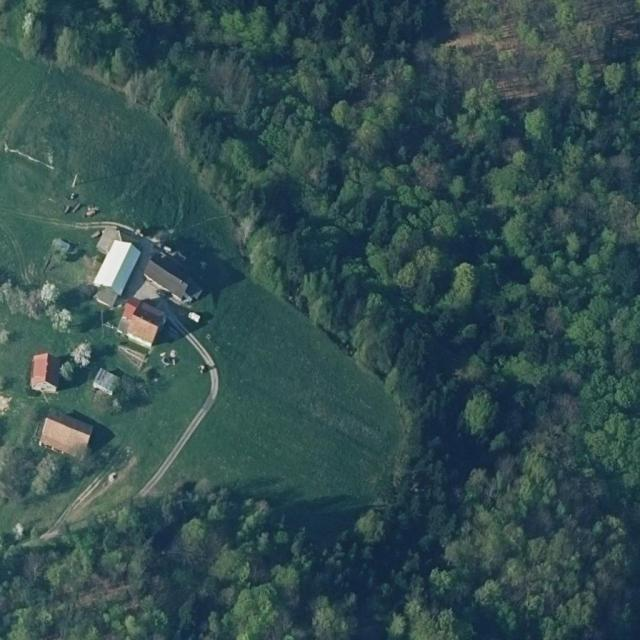agricultural_land: (180, 258, 417, 506)
building: (84, 234, 143, 310), (139, 248, 209, 311), (36, 408, 96, 460), (112, 296, 169, 350), (29, 351, 62, 393), (94, 222, 126, 258), (90, 367, 122, 398)
greenland: (0, 445, 90, 498), (86, 369, 151, 421), (54, 338, 100, 386)
unmetalled_road: (138, 311, 230, 506), (39, 471, 112, 547), (0, 208, 136, 236)
